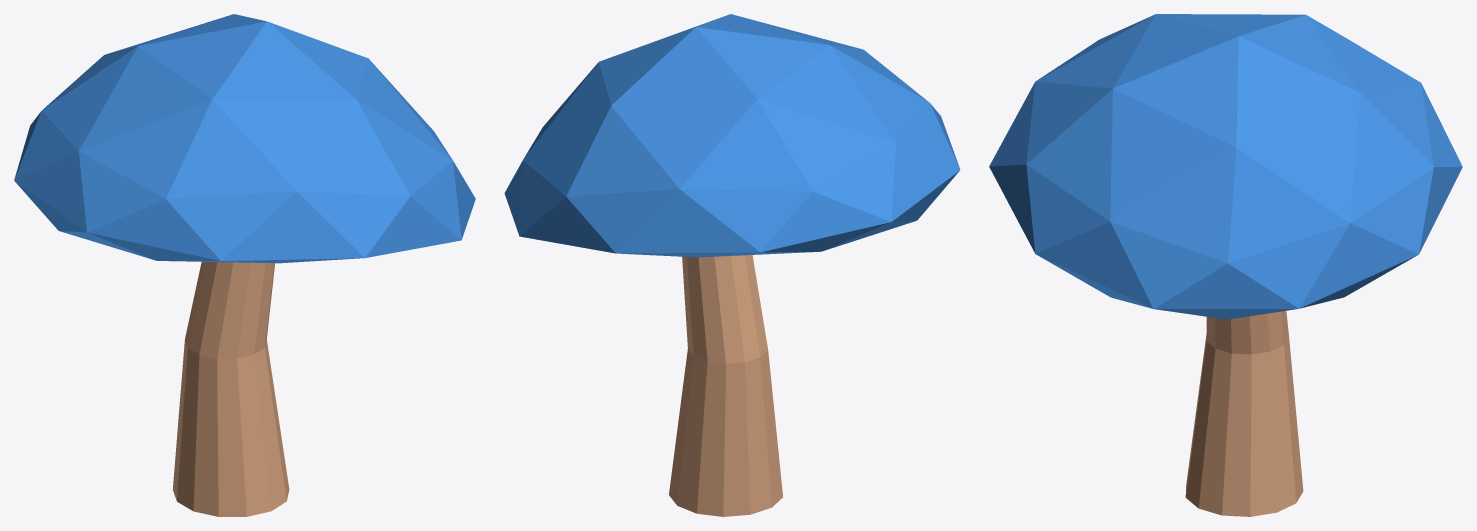
Rendered from mushroom.fbx.
The picture shows the model from 3 angles, left to right: view 1: azimuth 30°, elevation 25°; view 2: azimuth 150°, elevation 25°; view 3: azimuth 270°, elevation 25°; orthographic projection. The views are drawn at different scales.
Parts seen in each view (by area): view 1: Mushroomstump; view 2: Mushroomstump; view 3: Mushroomstump.
Part boxes in pixels (bbox=[...]): Mushroomstump: bbox=[14, 14, 475, 516]; Mushroomstump: bbox=[504, 14, 960, 516]; Mushroomstump: bbox=[989, 14, 1462, 516].
Bounding box in the file's own units: 32.11 × 36.35 × 33.04.
